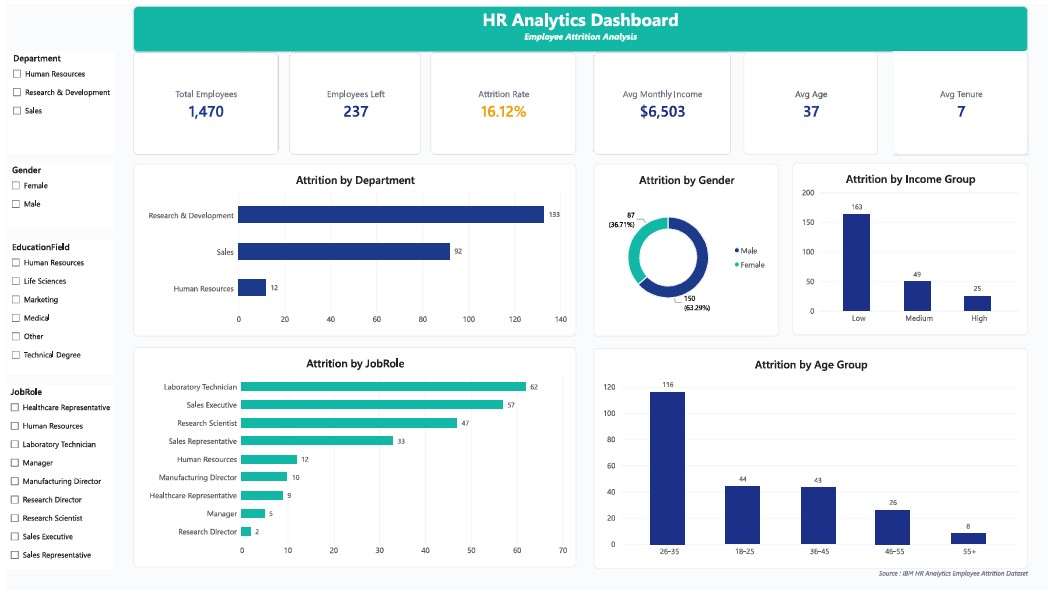

Layout of this report page (visuals, bound fields, positions):
{"tool":"powerbi","page":{"name":"Exec Dashboard","canvas":[1920,1080],"ordinal":0},"visuals":[{"type":"cardVisual","fields":{"Data":["Measures Table.Total Employees"]},"box":[234.2,88.1,266.4,189.1],"z":0},{"type":"cardVisual","fields":{"Data":["Measures Table.Attrition Count"]},"box":[522.1,88.1,242.8,189.1],"z":1000},{"type":"cardVisual","fields":{"Data":["Measures Table.Average Monthly Income"]},"box":[1082.9,88.1,253.5,189.1],"z":2000},{"type":"cardVisual","fields":{"Data":["Measures Table.Attrition Rate %"]},"box":[782.1,88.1,268.6,189.1],"z":3000},{"type":"slicer","fields":{"Values":["Dim_Department.Department"]},"box":[4.3,88.1,195.5,189.1],"z":4000},{"type":"slicer","fields":{"Values":["Dim_Gender.Gender"]},"box":[2.1,294.4,195.5,120.3],"z":5000},{"type":"slicer","fields":{"Values":["Dim_Education.EducationField"]},"box":[2.1,436.2,195.5,247.1],"z":6000},{"type":"slicer","fields":{"Values":["Dim_JobRole.JobRole"]},"box":[0,702.6,197.7,337.3],"z":7000},{"type":"clusteredBarChart","title":"Attrition by Department","fields":{"Category":["Dim_Department.Department"],"Y":["Measures Table.Attrition Count"]},"box":[234.2,294.4,816.5,318],"z":8000},{"type":"donutChart","title":"Attrition by Gender","fields":{"Category":["Dim_Gender.Gender"],"Y":["Measures Table.Attrition Count"]},"box":[1082.9,294.4,341.6,318],"z":9000},{"type":"clusteredBarChart","title":"Attrition by JobRole","fields":{"Category":["Dim_JobRole.JobRole"],"Y":["Measures Table.Attrition Count"]},"box":[234.2,631.7,816.5,406.1],"z":10000},{"type":"columnChart","title":"Attrition by Age Group","fields":{"Category":["Fact_Employee.Age Group"],"Y":["Measures Table.Attrition Count"]},"box":[1082.9,633.8,801.4,406.1],"z":11000},{"type":"columnChart","title":"Attrition by Income Group","fields":{"Category":["Fact_Employee.Income Group"],"Y":["Measures Table.Attrition Count"]},"box":[1450.3,292.2,434,318],"z":12000},{"type":"textbox","box":[234.2,4.3,1650.1,83.8],"z":13000},{"type":"cardVisual","fields":{"Data":["Measures Table.Average Years At Company"]},"box":[1637.2,88.1,247.1,189.1],"z":14000},{"type":"cardVisual","fields":{"Data":["Measures Table.Average Age"]},"box":[1360.1,88.1,247.1,189.1],"z":15000},{"type":"textbox","box":[234.2,1037.8,1650.1,40.8],"z":16000}]}

Visuals, with their boxes in screenshot pixels (x1, y1, x2, y2), scaled from the page's 1920x1080 canvas onto the 1048x597 screenshot:
cardVisual - Measures Table.Total Employees: pyautogui.locateOnScreen(128, 49, 273, 153)
cardVisual - Measures Table.Attrition Count: pyautogui.locateOnScreen(285, 49, 418, 153)
cardVisual - Measures Table.Average Monthly Income: pyautogui.locateOnScreen(591, 49, 729, 153)
cardVisual - Measures Table.Attrition Rate %: pyautogui.locateOnScreen(427, 49, 574, 153)
slicer - Dim_Department.Department: pyautogui.locateOnScreen(2, 49, 109, 153)
slicer - Dim_Gender.Gender: pyautogui.locateOnScreen(1, 163, 108, 229)
slicer - Dim_Education.EducationField: pyautogui.locateOnScreen(1, 241, 108, 378)
slicer - Dim_JobRole.JobRole: pyautogui.locateOnScreen(0, 388, 108, 575)
"Attrition by Department" clusteredBarChart: pyautogui.locateOnScreen(128, 163, 574, 339)
"Attrition by Gender" donutChart: pyautogui.locateOnScreen(591, 163, 778, 339)
"Attrition by JobRole" clusteredBarChart: pyautogui.locateOnScreen(128, 349, 574, 574)
"Attrition by Age Group" columnChart: pyautogui.locateOnScreen(591, 350, 1029, 575)
"Attrition by Income Group" columnChart: pyautogui.locateOnScreen(792, 162, 1029, 337)
textbox: pyautogui.locateOnScreen(128, 2, 1029, 49)
cardVisual - Measures Table.Average Years At Company: pyautogui.locateOnScreen(894, 49, 1029, 153)
cardVisual - Measures Table.Average Age: pyautogui.locateOnScreen(742, 49, 877, 153)
textbox: pyautogui.locateOnScreen(128, 574, 1029, 596)
